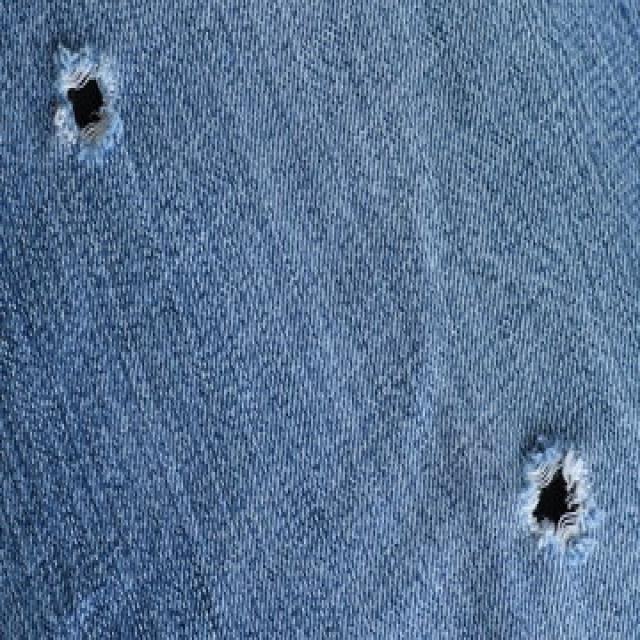Hole: (520, 434, 601, 565), (51, 42, 121, 158)
